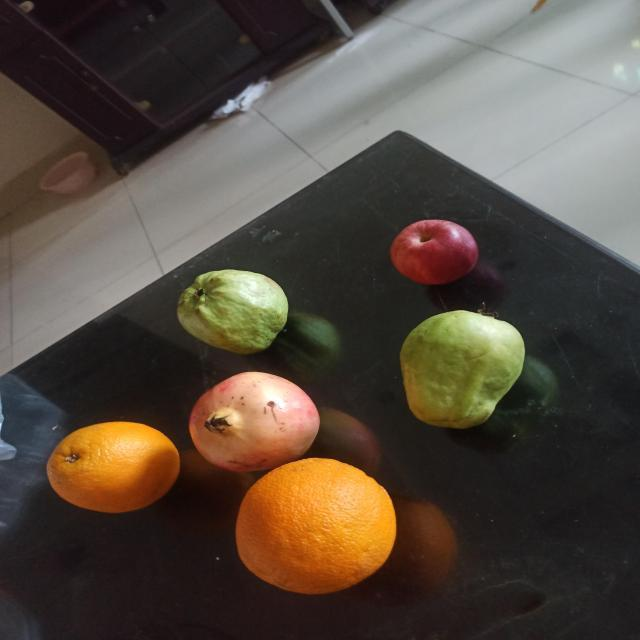apple: (389, 218, 478, 284)
